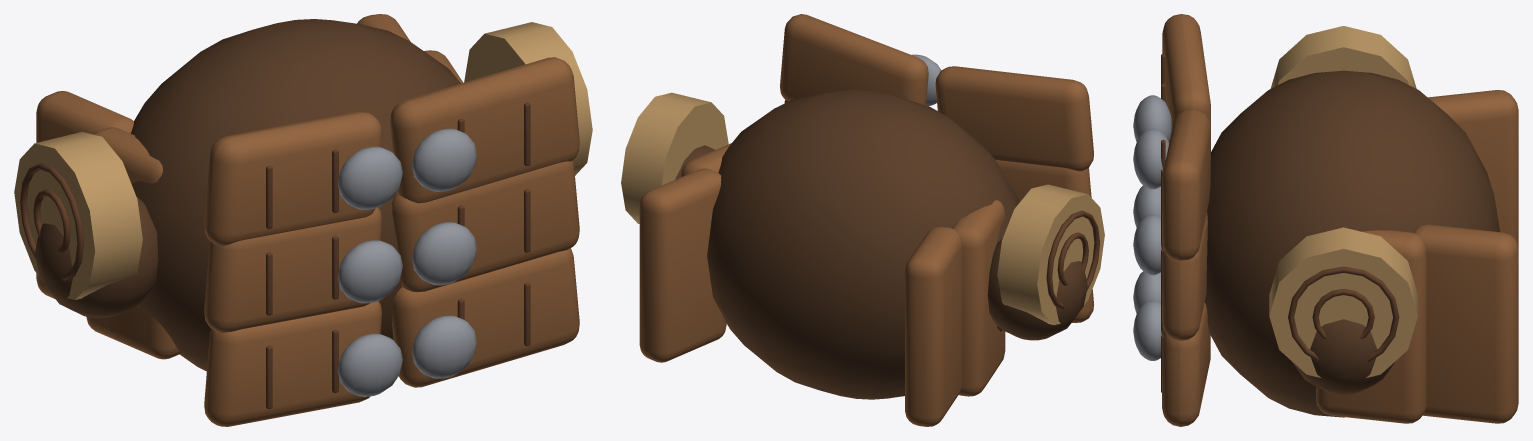
File: armor_barkvest.glb
The picture shows the model from 3 angles, left to right: view 1: azimuth 30°, elevation 25°; view 2: azimuth 150°, elevation 25°; view 3: azimuth 270°, elevation 25°; orthographic projection. The views are drawn at different scales.
Parts seen in each view (by area): view 1: sphere, oak_shingle.005, oak_shingle.002, oak_shingle.003, oak_shingle, oak_end_grain, oak_shingle.001, oak_shingle.004, sphere.001, oak_end_grain.001, box, box.001 (+9 smaller); view 2: sphere, box.003, oak_shingle.002, box.001, oak_end_grain, oak_shingle.005, oak_end_grain.001, box, sphere.001, oak_shingle.001, torus.001, box.002 (+2 smaller); view 3: sphere, box.003, oak_end_grain.001, box.002, oak_shingle.005, box.001, oak_end_grain, sphere.002, oak_shingle.002, oak_shingle.003, oak_shingle.004, torus.003 (+7 smaller).
Part boxes in pixels (x1,y1,x2,y2): sphere: [131, 19, 460, 371]; oak_shingle.005: [390, 57, 579, 203]; oak_shingle.002: [204, 111, 381, 245]; oak_shingle.003: [392, 248, 579, 387]; oak_shingle: [204, 301, 381, 426]; oak_end_grain: [14, 132, 142, 299]; oak_shingle.001: [204, 207, 381, 332]; oak_shingle.004: [392, 160, 579, 292]; sphere.001: [35, 196, 158, 318]; oak_end_grain.001: [464, 22, 592, 175]; box: [86, 127, 181, 359]; box.001: [36, 91, 133, 298]; sphere: [707, 90, 1019, 399]; box.003: [639, 168, 726, 362]; oak_shingle.002: [935, 66, 1093, 171]; box.001: [905, 226, 961, 426]; oak_end_grain: [997, 184, 1104, 325]; oak_shingle.005: [780, 14, 928, 105]; oak_end_grain.001: [621, 92, 728, 223]; box: [952, 200, 1005, 396]; sphere.001: [987, 239, 1087, 340]; oak_shingle.001: [996, 160, 1091, 202]; torus.001: [1046, 210, 1099, 308]; box.002: [681, 143, 731, 176]; sphere: [1204, 70, 1500, 417]; box.003: [1412, 224, 1518, 423]; oak_end_grain.001: [1269, 227, 1417, 377]; box.002: [1316, 230, 1426, 423]; oak_shingle.005: [1162, 109, 1210, 260]; box.001: [1428, 90, 1518, 247]; oak_end_grain: [1270, 26, 1416, 88]; sphere.002: [1292, 319, 1394, 394]; oak_shingle.002: [1162, 14, 1210, 142]; oak_shingle.003: [1162, 302, 1210, 426]; oak_shingle.004: [1162, 212, 1207, 340]; torus.003: [1288, 266, 1399, 361].
Size of the model in its own units: 0.788 by 0.4905 by 0.5496.
